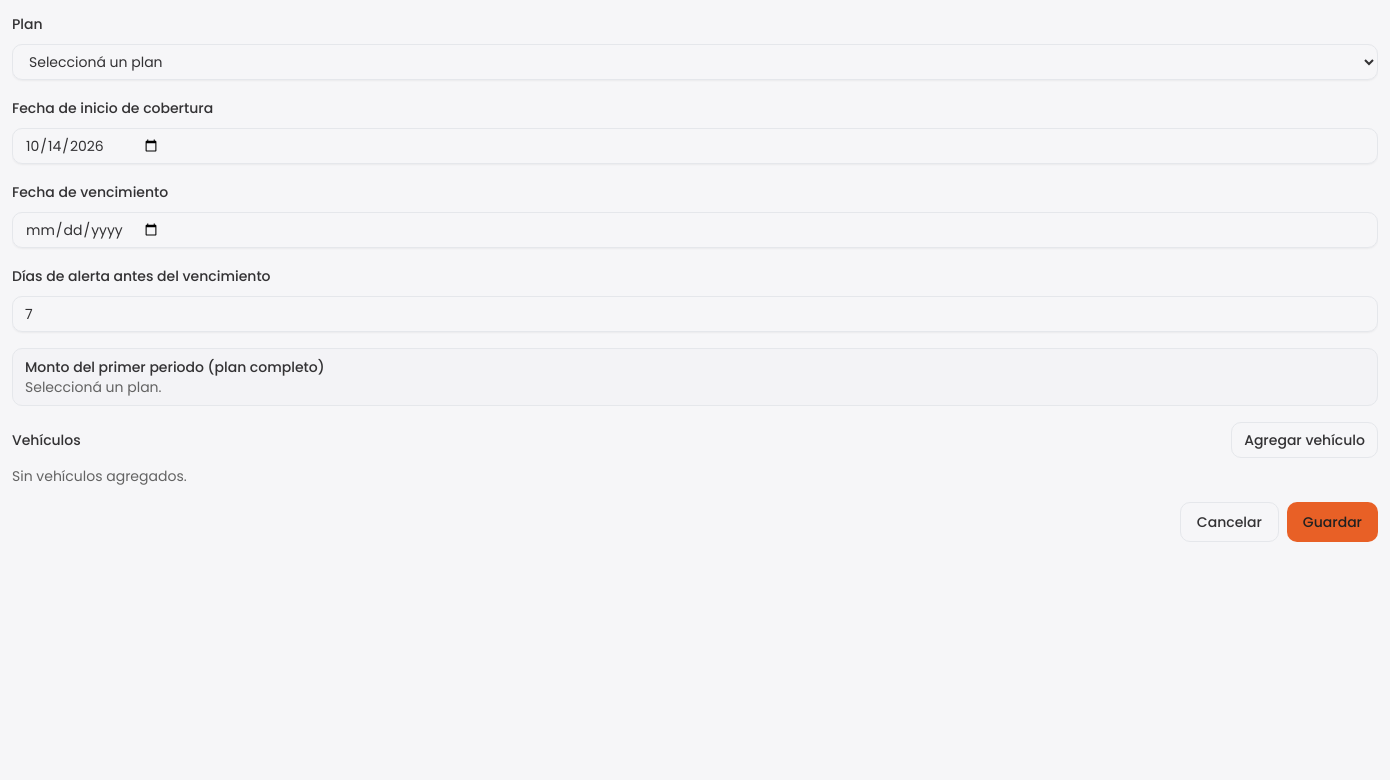
Scenario: <SuscripcionForm /> -- crear › does NOT create the subscripcion when the same vehicle is added twice
This screenshot has width=1390, height=780.
Select "Mensual cualquiera" in the dropdown with test id "suscripcion-field-plan": (695, 62) [12, 44, 1378, 80]
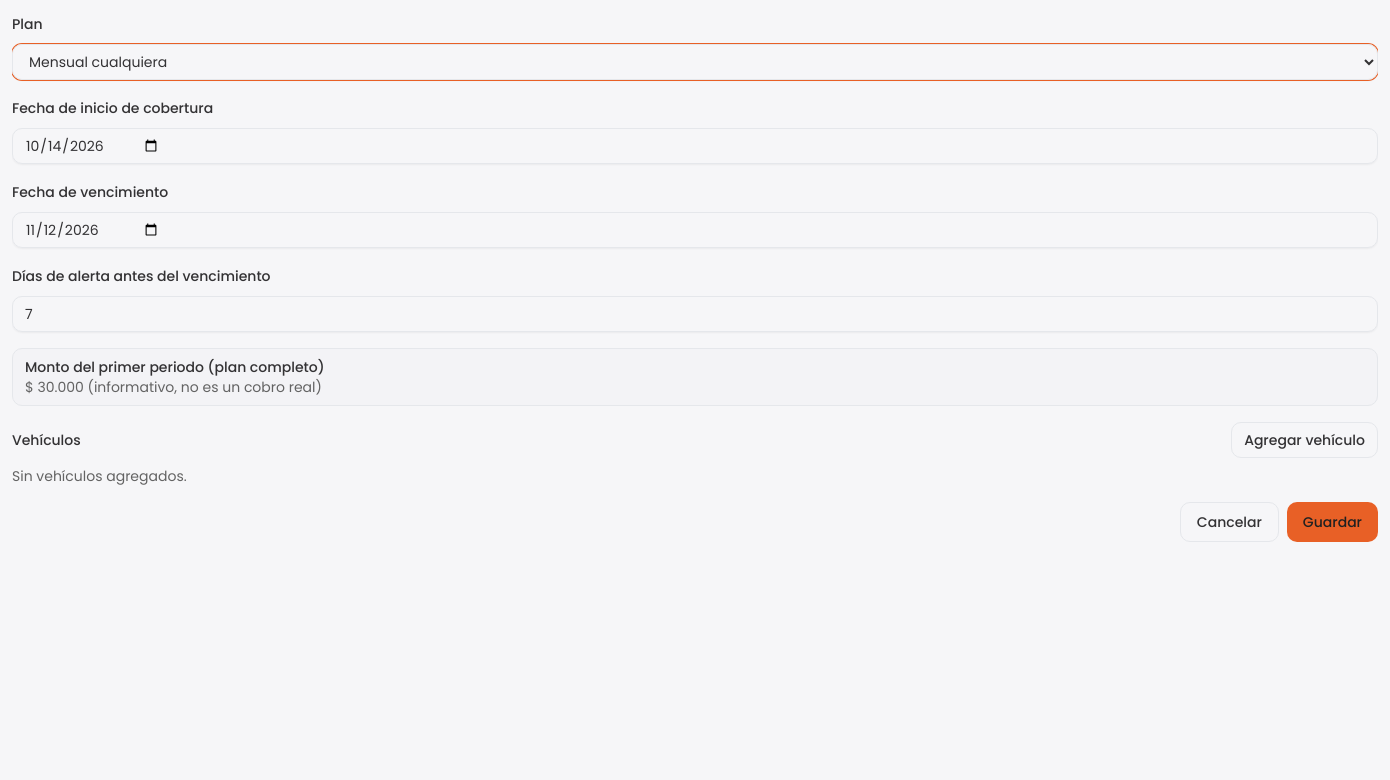
Click the button with test id "suscripcion-agregar-vehiculo": (1305, 440) [1231, 422, 1378, 458]
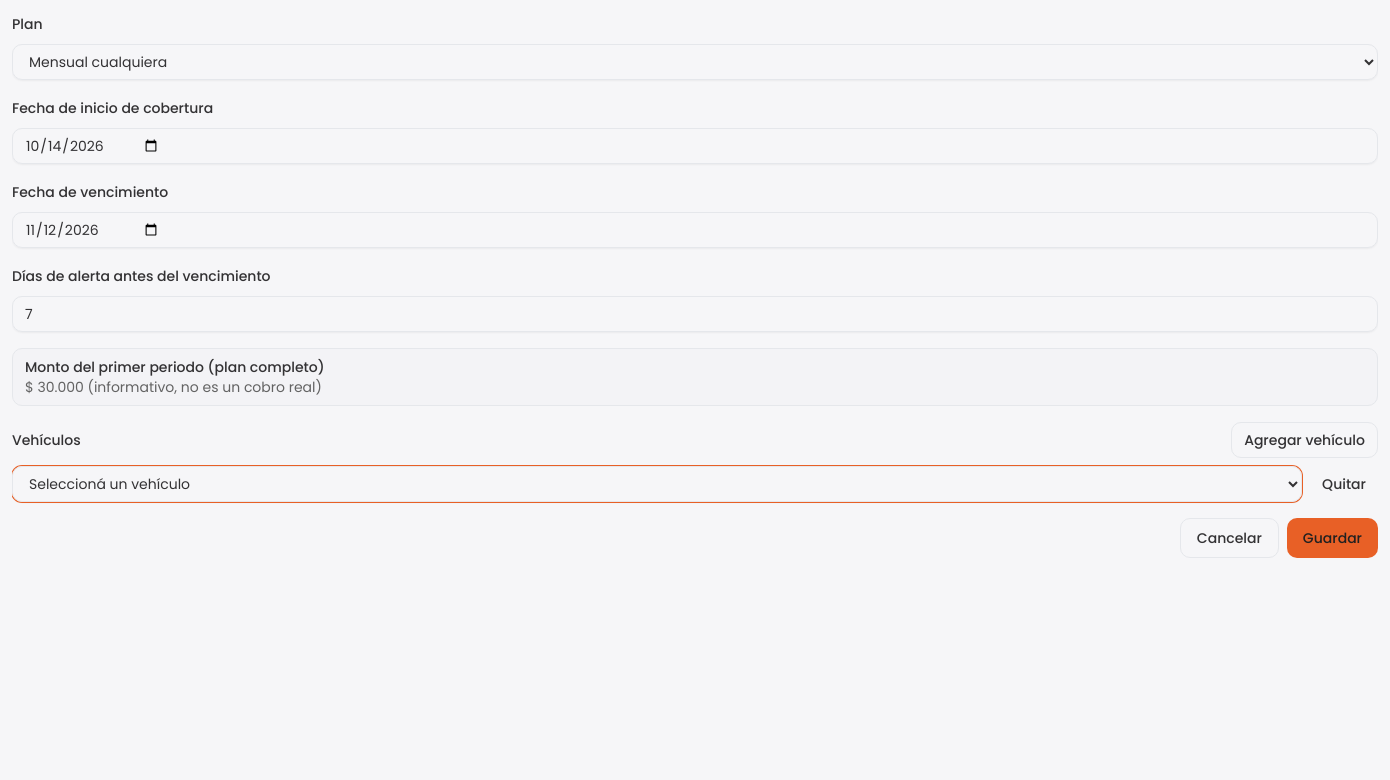
Select "ABC123" in the 2nd dropdown: (657, 484) [12, 466, 1302, 502]
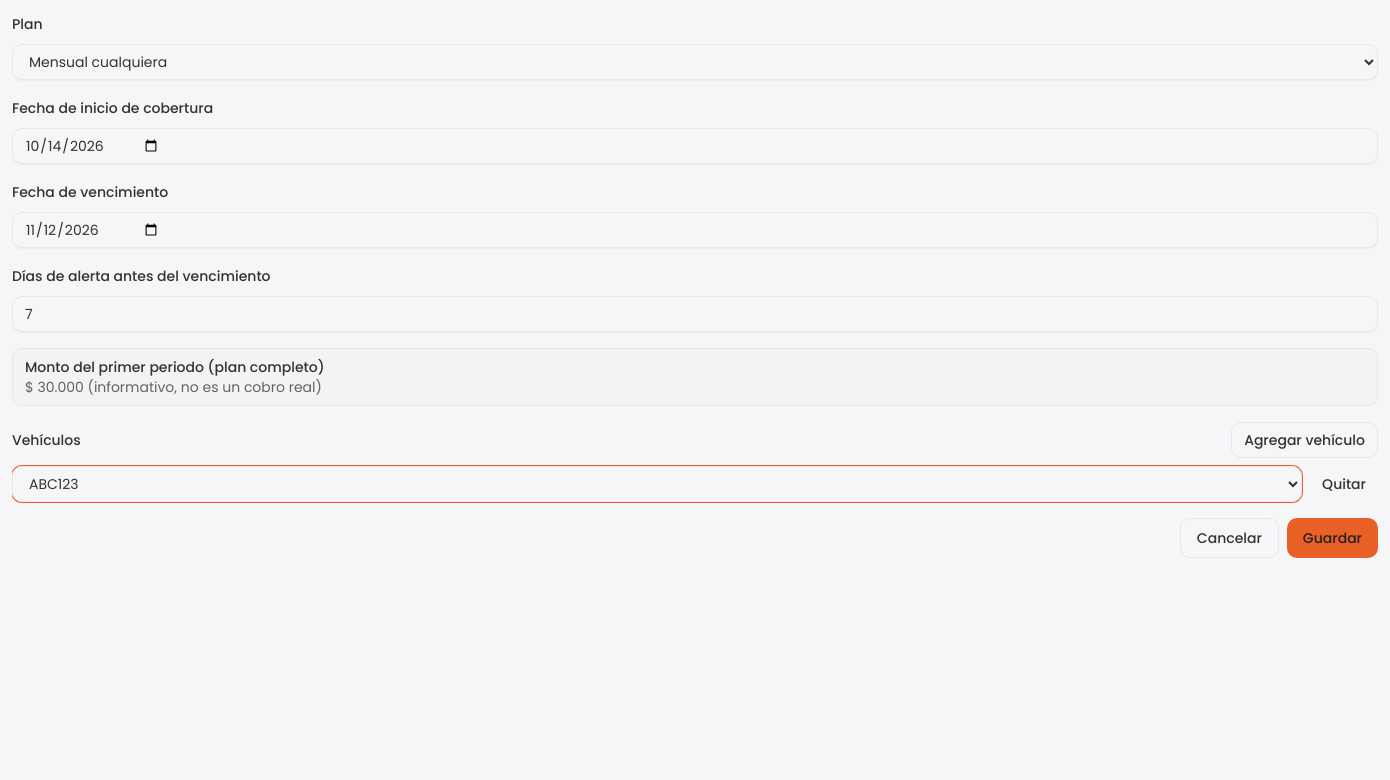
Click the button with test id "suscripcion-agregar-vehiculo": (1305, 440) [1231, 422, 1378, 458]
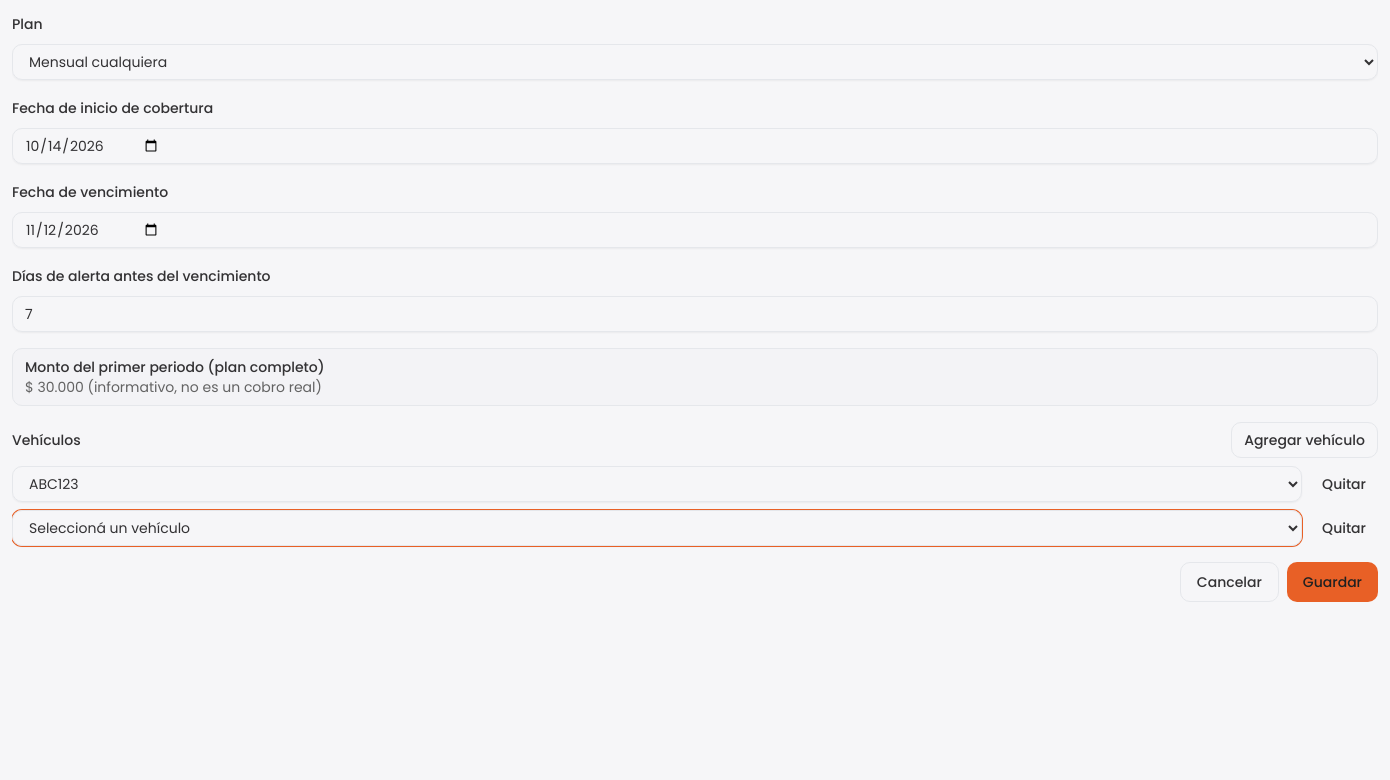
Select "ABC123" in the 3rd dropdown: (657, 528) [12, 510, 1302, 546]
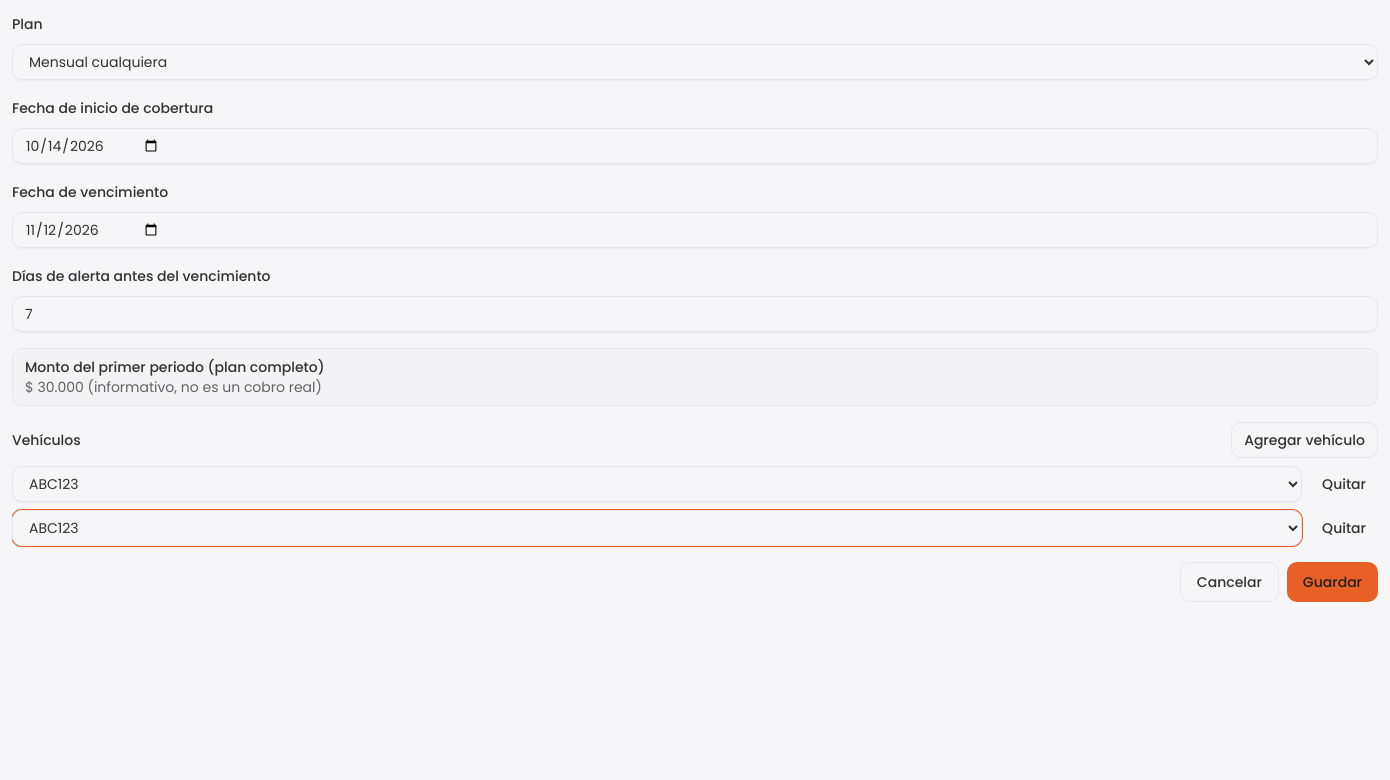
Click the button with test id "suscripcion-form-submit": (1332, 582) [1287, 562, 1378, 602]
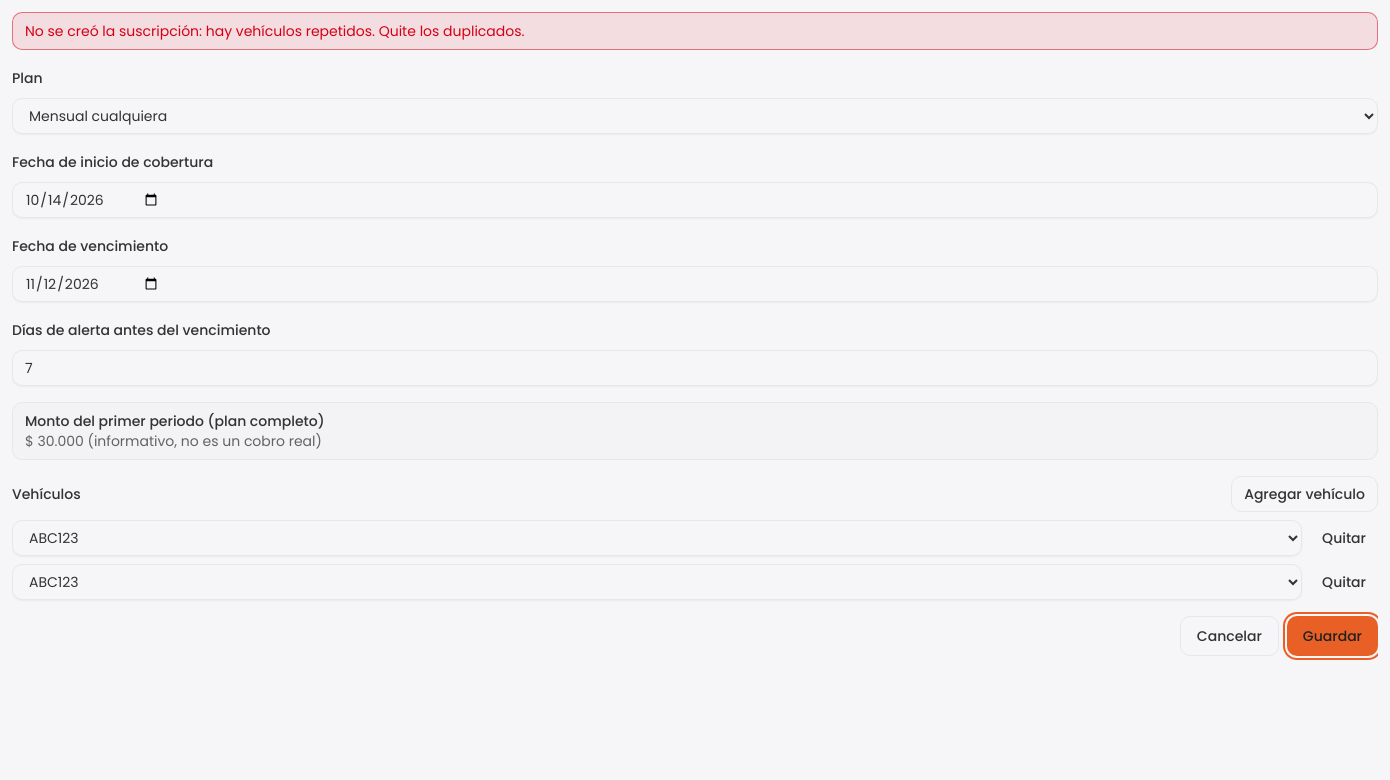
Expected: the message with test id "suscripcion-form-submit-error" shows "vehículos repetidos", [25, 21, 524, 41]
